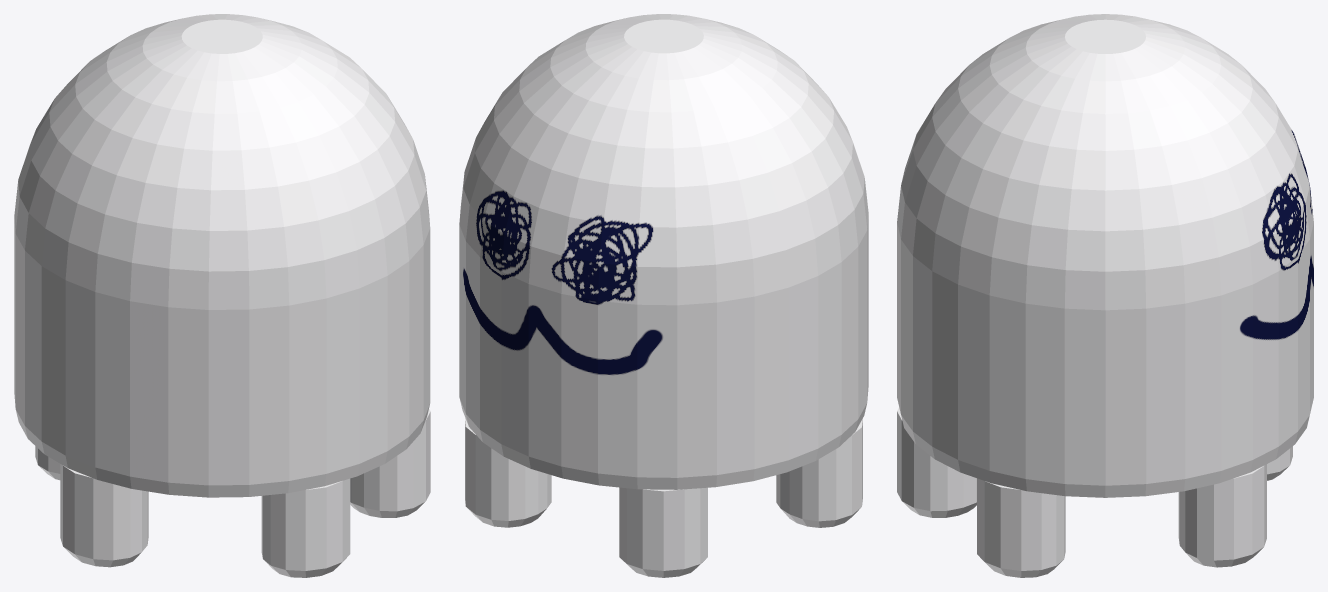
The model's file is ghost.glb.
The picture shows the model from 3 angles, left to right: view 1: azimuth 30°, elevation 25°; view 2: azimuth 150°, elevation 25°; view 3: azimuth 270°, elevation 25°; orthographic projection.
Visible parts, largest first — view 1: Body, Cylinder; view 2: Body, Cylinder; view 3: Body, Cylinder.
Boxes of the visible parts, x1=… form: Body: x1=14, y1=14, x2=430, y2=497; Cylinder: x1=35, y1=408, x2=430, y2=577; Body: x1=459, y1=14, x2=868, y2=489; Cylinder: x1=465, y1=418, x2=862, y2=577; Body: x1=897, y1=14, x2=1313, y2=497; Cylinder: x1=897, y1=407, x2=1292, y2=577.
Size of the model in its own units: 1.4 by 1.73 by 1.4.
2 materials, 2 textured.
